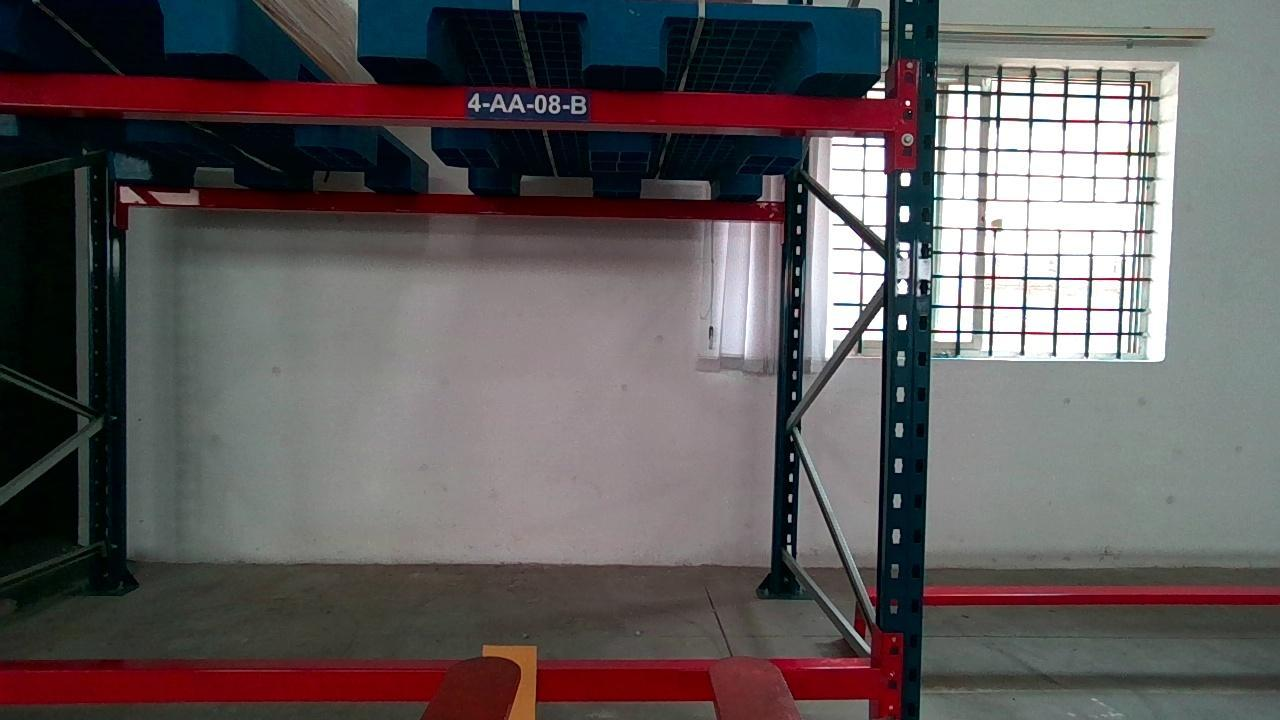h_rack: (0, 69, 897, 131), (1, 667, 876, 699)
orange_strip: (485, 647, 534, 720)
